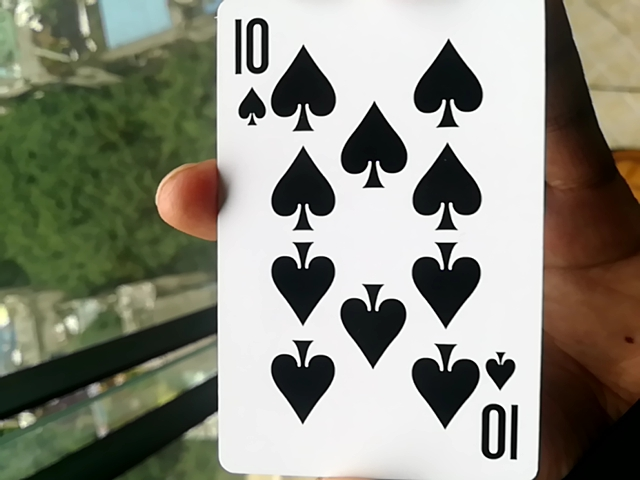ht 10: (205, 11, 544, 475)
